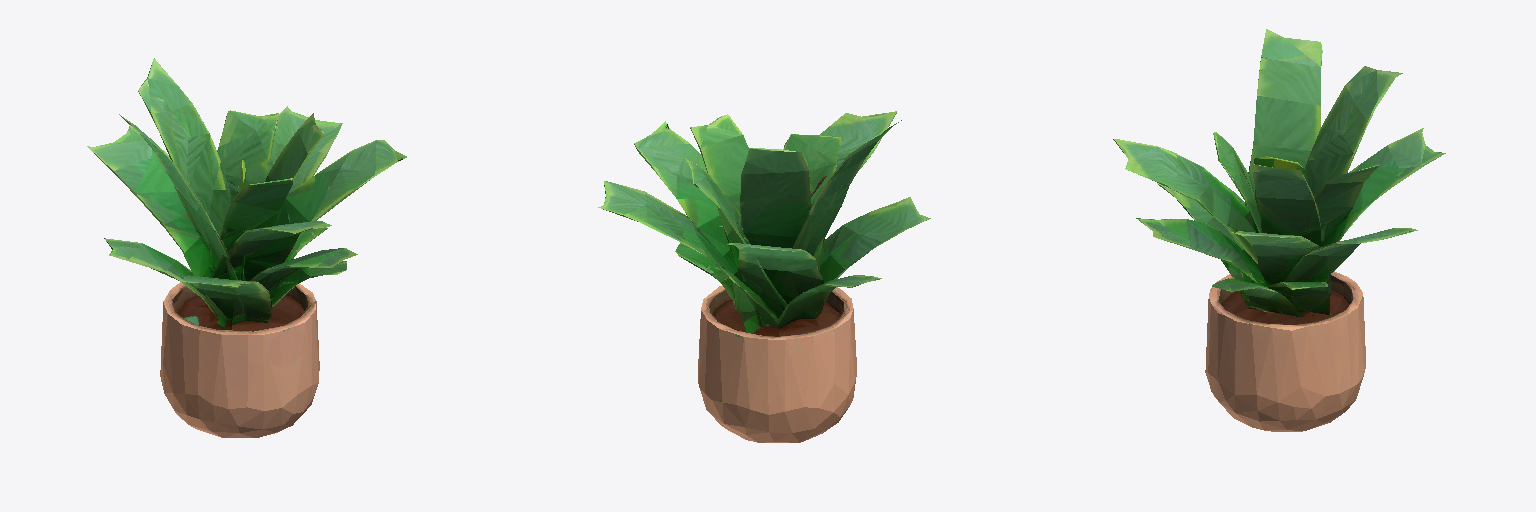
3 views of the same model, side by side, from view 1: azimuth 30°, elevation 25°; view 2: azimuth 150°, elevation 25°; view 3: azimuth 270°, elevation 25° (orthographic).
Parts seen in each view (by area): view 1: Mesh_0; view 2: Mesh_0; view 3: Mesh_0.
Part boxes in pixels (bbox=[...]): Mesh_0: bbox=[87, 58, 406, 437]; Mesh_0: bbox=[598, 111, 930, 442]; Mesh_0: bbox=[1113, 29, 1445, 431].
Size of the model in its own units: 1.68 by 2 by 1.84.
1 materials, 1 textured.